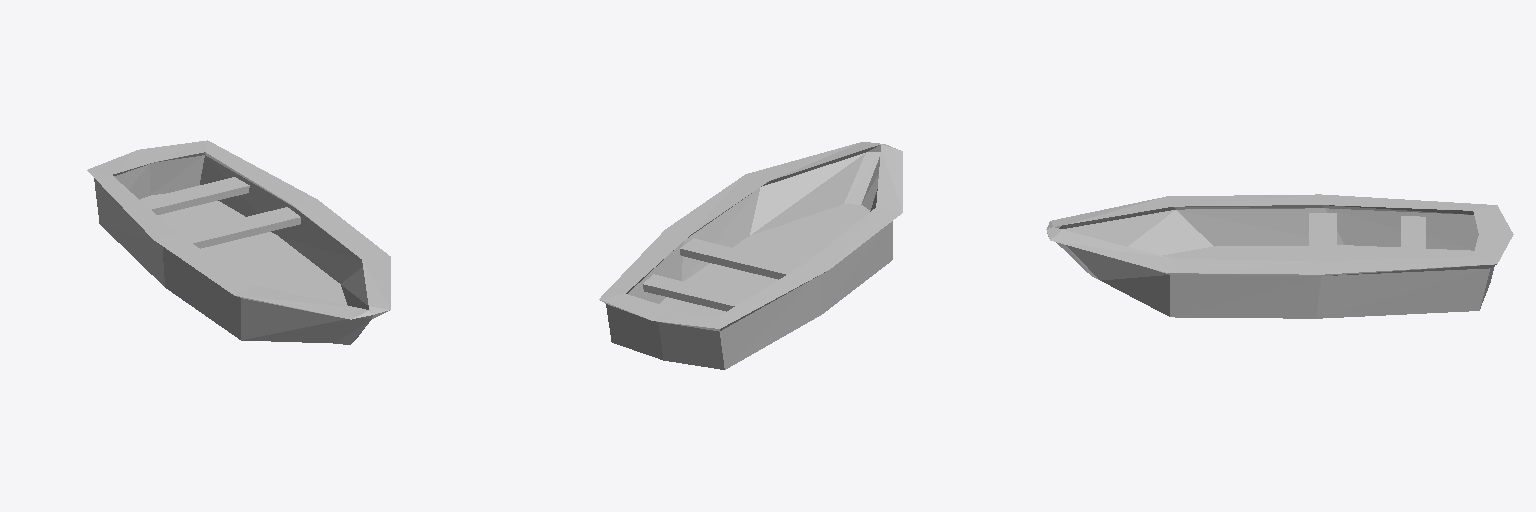
The model's file is boat_lowPoly.obj.
3 renders of one model, left to right at view 1: azimuth 30°, elevation 25°; view 2: azimuth 150°, elevation 25°; view 3: azimuth 270°, elevation 25°, orthographic.
Parts seen in each view (by area): view 1: boat Boat__Reduced__Boat, Seat1 boat, boat Seat2; view 2: boat Boat__Reduced__Boat, Seat1 boat, boat Seat2; view 3: boat Boat__Reduced__Boat, Seat1 boat, boat Seat2.
Boxes of the visible parts, x1=… form: boat Boat__Reduced__Boat: x1=87, y1=140, x2=390, y2=344; Seat1 boat: x1=178, y1=207, x2=300, y2=248; boat Seat2: x1=140, y1=177, x2=249, y2=214; boat Boat__Reduced__Boat: x1=599, y1=142, x2=902, y2=369; Seat1 boat: x1=680, y1=238, x2=801, y2=279; boat Seat2: x1=643, y1=274, x2=748, y2=311; boat Boat__Reduced__Boat: x1=1046, y1=194, x2=1513, y2=318; Seat1 boat: x1=1309, y1=213, x2=1336, y2=260; boat Seat2: x1=1401, y1=216, x2=1425, y2=258.
Size of the model in its own units: 3.49 by 1.16 by 8.58.